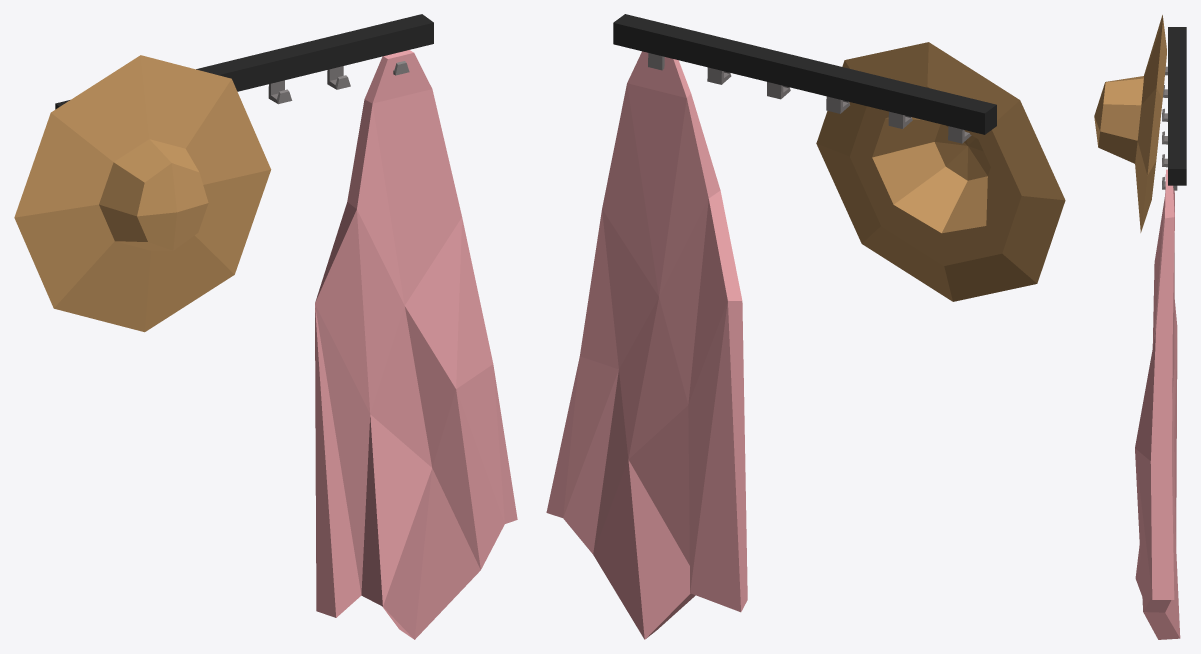
File: furniture-hanger-wall-clothes-c.glb
3 views of the same model, side by side, from view 1: azimuth 30°, elevation 25°; view 2: azimuth 150°, elevation 25°; view 3: azimuth 270°, elevation 25° (orthographic). The views are drawn at different scales.
Visible parts, largest first — view 1: hanger-wall-clothes-c; view 2: hanger-wall-clothes-c; view 3: hanger-wall-clothes-c.
Part boxes in pixels (<box>): hanger-wall-clothes-c: <box>14,14,517,639</box>; hanger-wall-clothes-c: <box>546,14,1065,639</box>; hanger-wall-clothes-c: <box>1094,15,1186,639</box>.
Size of the model in its own units: 0.9873 by 1.22 by 0.1993.
